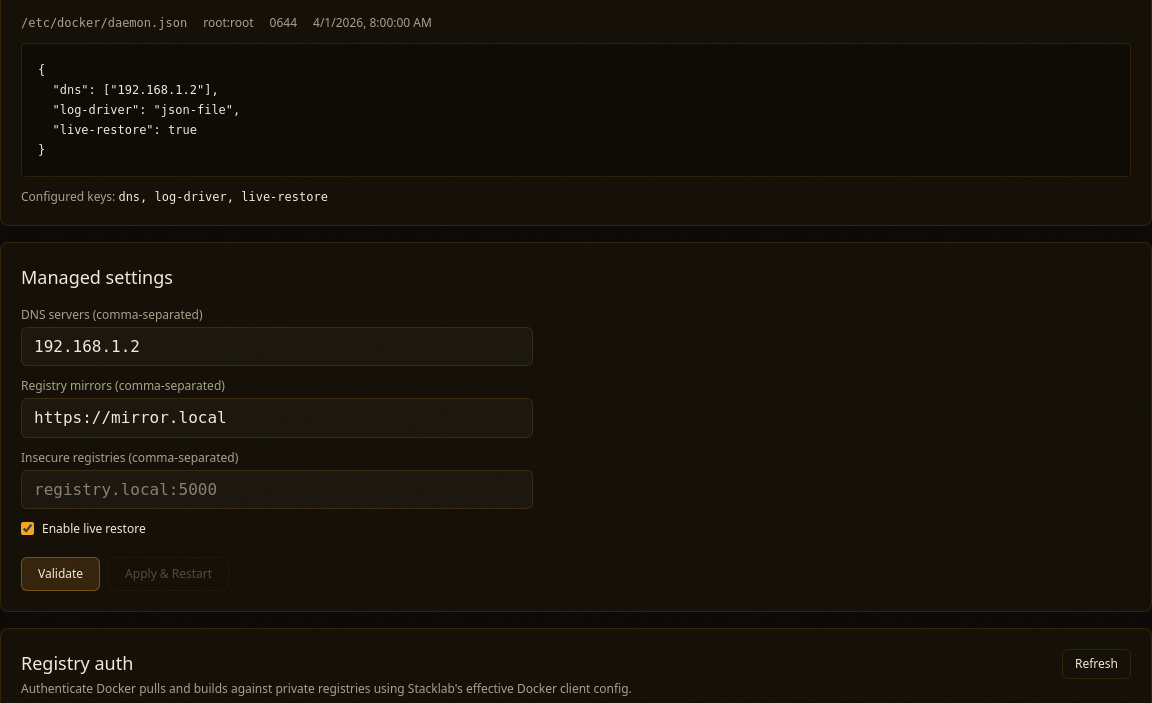
it: DockerAdminPage › invalidates preview when managed settings change after validate
(page scrolled)
Replace the text in the field labelled "DNS servers (comma-separated)" with "1.1.1.1". click: {"x": 277, "y": 347}
box: [21, 327, 533, 366]
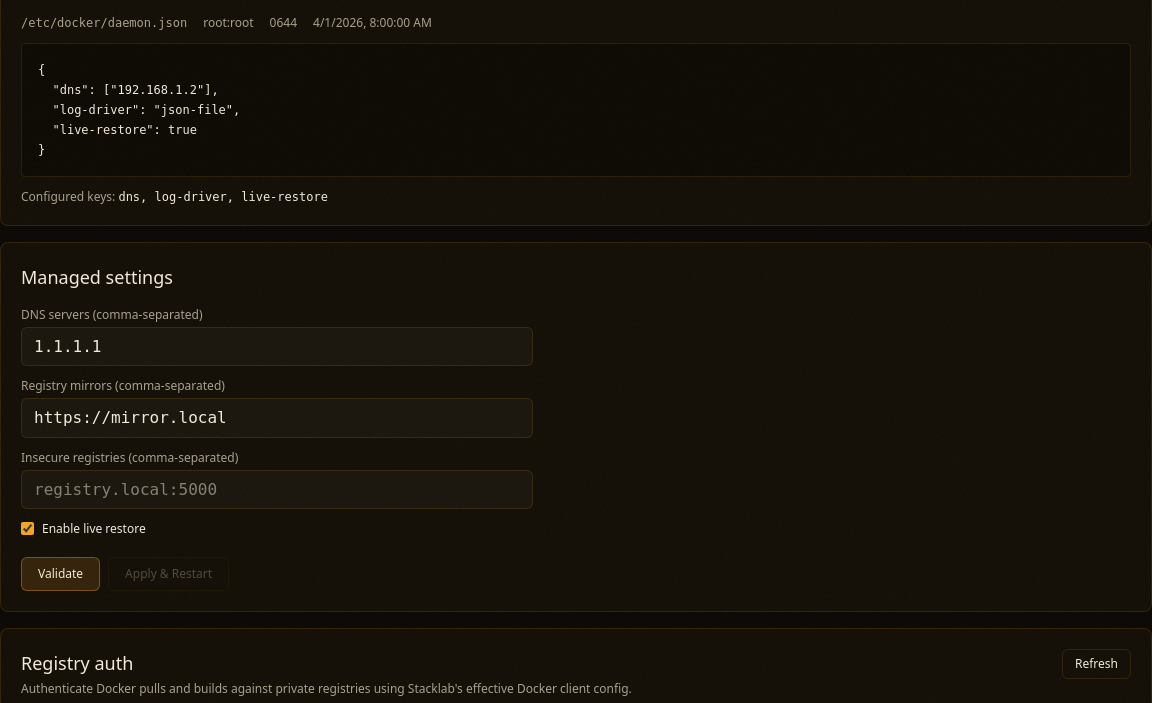
Click the button "Validate". click: {"x": 61, "y": 574}
box: [21, 557, 100, 591]
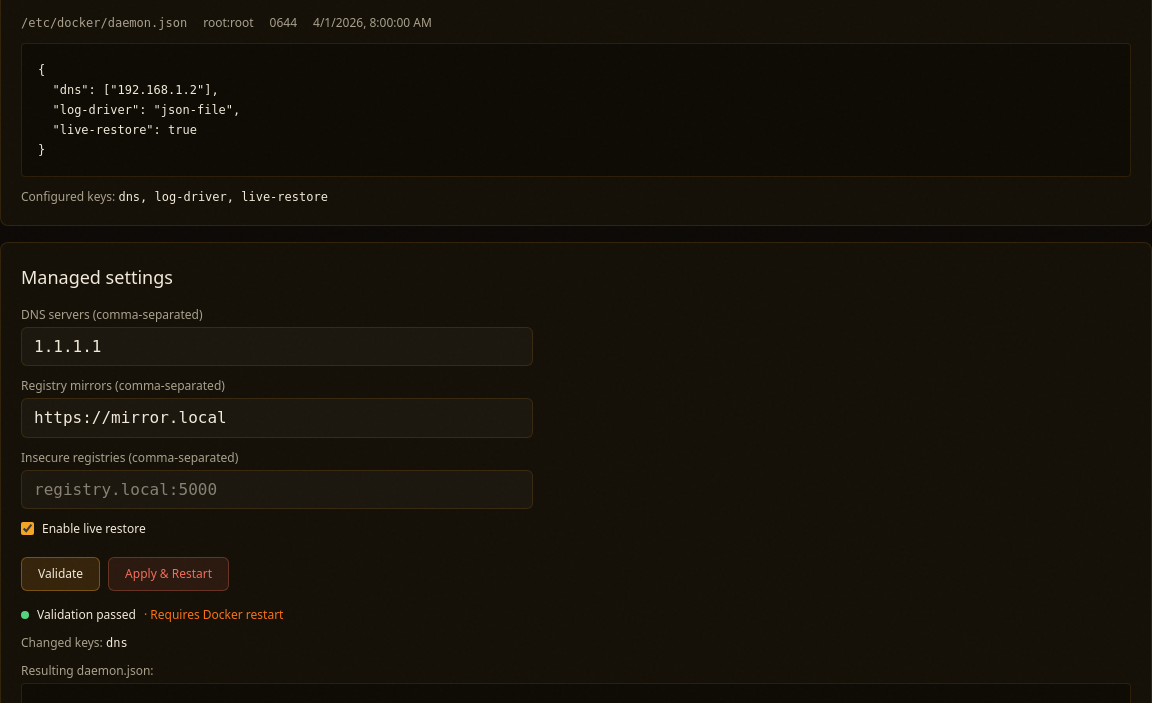
Now the text "Validation passed" is shown, box [37, 607, 136, 623]
Now the button "Apply & Restart" is enabled, box [108, 557, 229, 591]
Replace the text in the field labelled "DNS servers (comma-separated)" with "9.9.9.9". click: {"x": 277, "y": 347}
box: [21, 327, 533, 366]
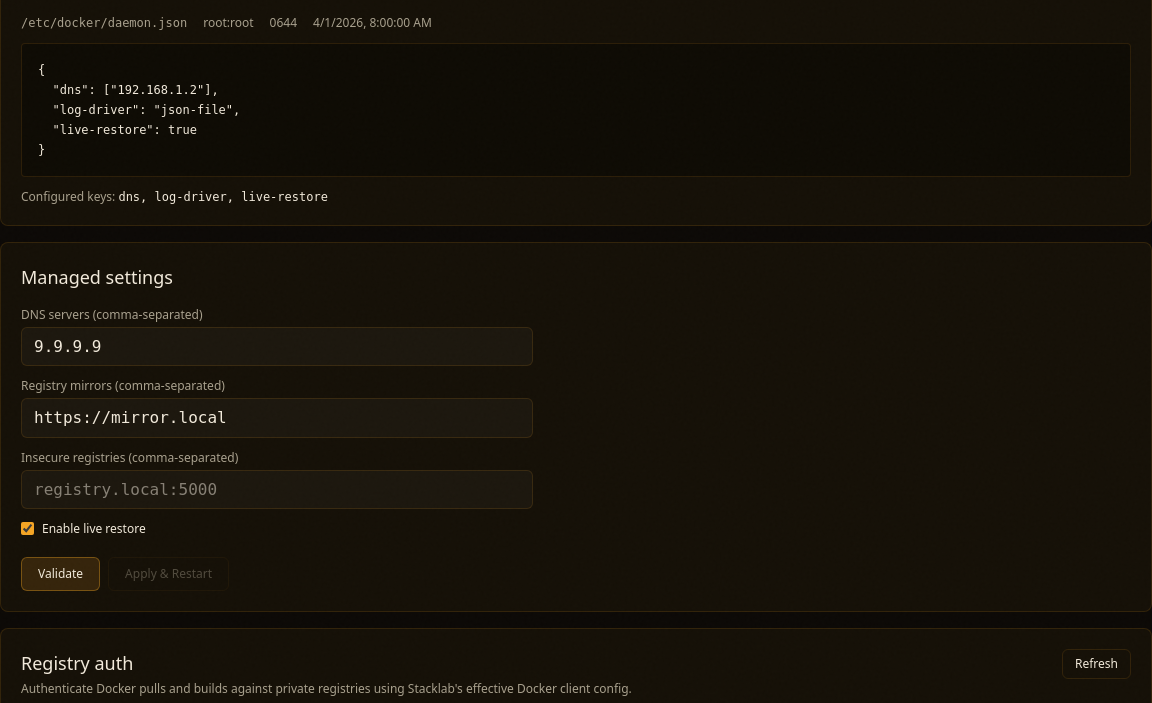
Now the text "Validation passed" is gone
Now the button "Apply & Restart" is disabled, box [108, 557, 229, 591]
